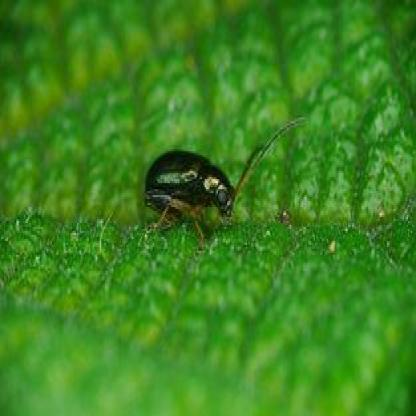beetle: (140, 133, 264, 237)
